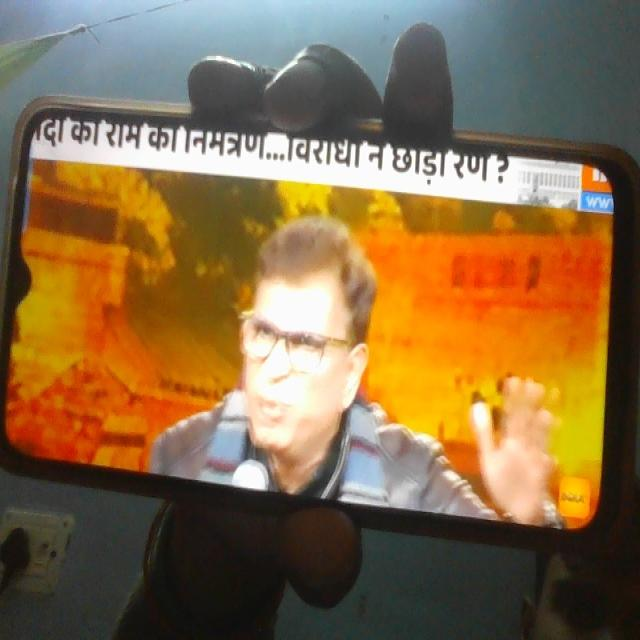fake: (225, 209, 364, 472)
